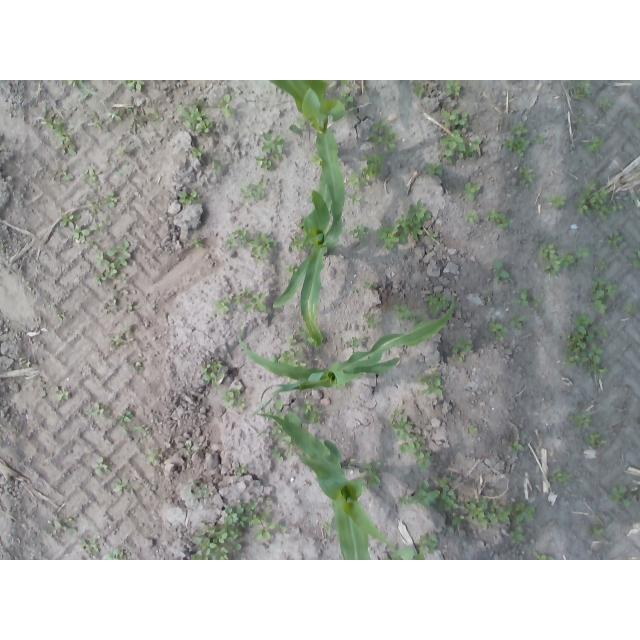Maize: (239, 297, 458, 416), (258, 412, 391, 560), (266, 81, 351, 240), (273, 164, 339, 349)
Weeds: (192, 502, 261, 560), (563, 314, 609, 379), (377, 199, 432, 250), (576, 180, 624, 221), (40, 106, 77, 156), (387, 408, 425, 456), (463, 496, 513, 529), (439, 129, 481, 167), (536, 242, 580, 277), (93, 240, 131, 276), (176, 99, 214, 133), (589, 276, 620, 317), (367, 119, 400, 154), (271, 419, 294, 462), (409, 479, 441, 509), (360, 154, 387, 187), (69, 222, 104, 247), (251, 233, 278, 264), (437, 476, 460, 511), (240, 176, 268, 204), (268, 348, 306, 368), (199, 361, 226, 388), (441, 107, 472, 129), (419, 370, 444, 397), (262, 132, 286, 160), (359, 460, 382, 489), (221, 388, 247, 412), (300, 399, 323, 426), (254, 512, 275, 541), (380, 548, 426, 561), (451, 336, 473, 362), (225, 228, 252, 249), (514, 288, 542, 308), (426, 291, 450, 314), (349, 222, 370, 248), (108, 326, 133, 347), (492, 260, 513, 285), (504, 137, 531, 156), (461, 180, 484, 202), (487, 209, 514, 227), (417, 533, 439, 555), (609, 485, 631, 507), (513, 502, 536, 523), (216, 94, 236, 118), (49, 516, 77, 533), (339, 90, 358, 115), (177, 189, 203, 206), (107, 106, 133, 123), (187, 480, 208, 501), (571, 80, 592, 101), (245, 292, 267, 312), (112, 478, 137, 495), (92, 456, 112, 477), (264, 399, 284, 420), (604, 230, 624, 251), (487, 321, 507, 342), (415, 451, 434, 473), (582, 432, 606, 449), (567, 412, 591, 428), (81, 537, 101, 556), (299, 326, 317, 347), (255, 153, 276, 171), (583, 135, 604, 153), (289, 233, 308, 252), (145, 447, 164, 465), (517, 167, 535, 186), (60, 212, 81, 228), (289, 116, 307, 134), (443, 80, 461, 98), (507, 311, 525, 329), (393, 302, 412, 319), (181, 439, 200, 456), (104, 548, 128, 561), (86, 402, 110, 415), (551, 471, 573, 485), (214, 295, 231, 313), (102, 190, 120, 207), (344, 173, 361, 191), (285, 412, 304, 428), (58, 163, 74, 182), (122, 80, 147, 92), (364, 312, 381, 329), (54, 384, 71, 401), (83, 165, 99, 183), (587, 524, 606, 539), (413, 81, 428, 100), (549, 193, 568, 208), (233, 288, 249, 305), (509, 121, 528, 135), (510, 526, 525, 543), (425, 162, 443, 176), (347, 336, 366, 349), (117, 410, 136, 423), (134, 423, 151, 437), (188, 143, 205, 157), (629, 248, 640, 269), (211, 158, 225, 174), (599, 96, 613, 112), (87, 118, 105, 130), (509, 439, 524, 453), (347, 191, 362, 205), (464, 210, 480, 223), (145, 111, 163, 122), (86, 199, 99, 214), (427, 228, 439, 244), (575, 246, 591, 258), (534, 552, 555, 561), (622, 302, 639, 313), (310, 151, 322, 166), (412, 313, 428, 324), (132, 358, 144, 372), (63, 81, 86, 88), (630, 484, 640, 500), (286, 263, 299, 275), (451, 515, 465, 526), (396, 494, 408, 506), (234, 463, 246, 475), (94, 274, 107, 285), (536, 134, 549, 145), (80, 87, 92, 98), (287, 333, 297, 345), (298, 217, 306, 232), (469, 425, 480, 435), (278, 523, 288, 534), (191, 238, 203, 247), (114, 145, 126, 154), (600, 260, 609, 271), (363, 280, 373, 289), (56, 312, 65, 320), (325, 520, 330, 531), (307, 195, 313, 203), (263, 497, 270, 503), (636, 121, 640, 128), (0, 243, 4, 249)
